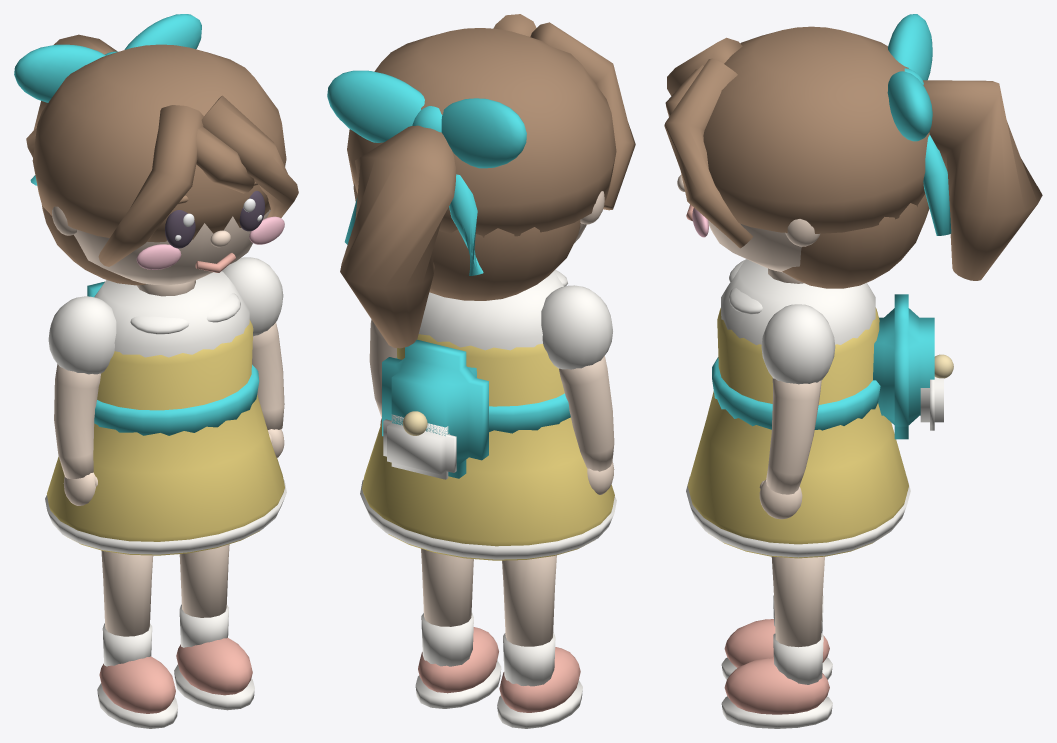
File: Char_Protagonist.fbx
The picture shows the model from 3 angles, left to right: view 1: azimuth 30°, elevation 25°; view 2: azimuth 150°, elevation 25°; view 3: azimuth 270°, elevation 25°; orthographic projection. The views are drawn at different scales.
Visible parts, largest first — view 1: Protag_Head, Protag_Torso, Protag_LegL, Protag_ArmL, Protag_LegR, Protag_ArmR, Protag_EyeL, Protag_EyeR; view 2: Protag_Head, Protag_Torso, Protag_LegL, Protag_ArmL, Protag_LegR, Protag_ArmR; view 3: Protag_Head, Protag_Torso, Protag_LegR, Protag_ArmR, Protag_LegL.
Boxes of the visible parts, x1=… form: Protag_Head: x1=14, y1=14, x2=298, y2=285; Protag_Torso: x1=45, y1=271, x2=286, y2=555; Protag_LegL: x1=97, y1=550, x2=177, y2=728; Protag_ArmL: x1=48, y1=296, x2=116, y2=505; Protag_LegR: x1=174, y1=544, x2=254, y2=710; Protag_ArmR: x1=222, y1=257, x2=284, y2=457; Protag_EyeL: x1=165, y1=210, x2=195, y2=248; Protag_EyeR: x1=239, y1=191, x2=265, y2=231; Protag_Head: x1=327, y1=14, x2=635, y2=348; Protag_Torso: x1=360, y1=269, x2=616, y2=560; Protag_LegL: x1=497, y1=555, x2=582, y2=728; Protag_ArmL: x1=541, y1=285, x2=614, y2=494; Protag_LegR: x1=415, y1=548, x2=501, y2=708; Protag_ArmR: x1=369, y1=319, x2=396, y2=425; Protag_Head: x1=664, y1=14, x2=1042, y2=288; Protag_Torso: x1=686, y1=259, x2=953, y2=558; Protag_LegR: x1=721, y1=556, x2=832, y2=728; Protag_ArmR: x1=759, y1=304, x2=835, y2=519; Protag_LegL: x1=721, y1=595, x2=832, y2=679.
Size of the model in its own units: 0.6004 by 1.58 by 0.8376.
